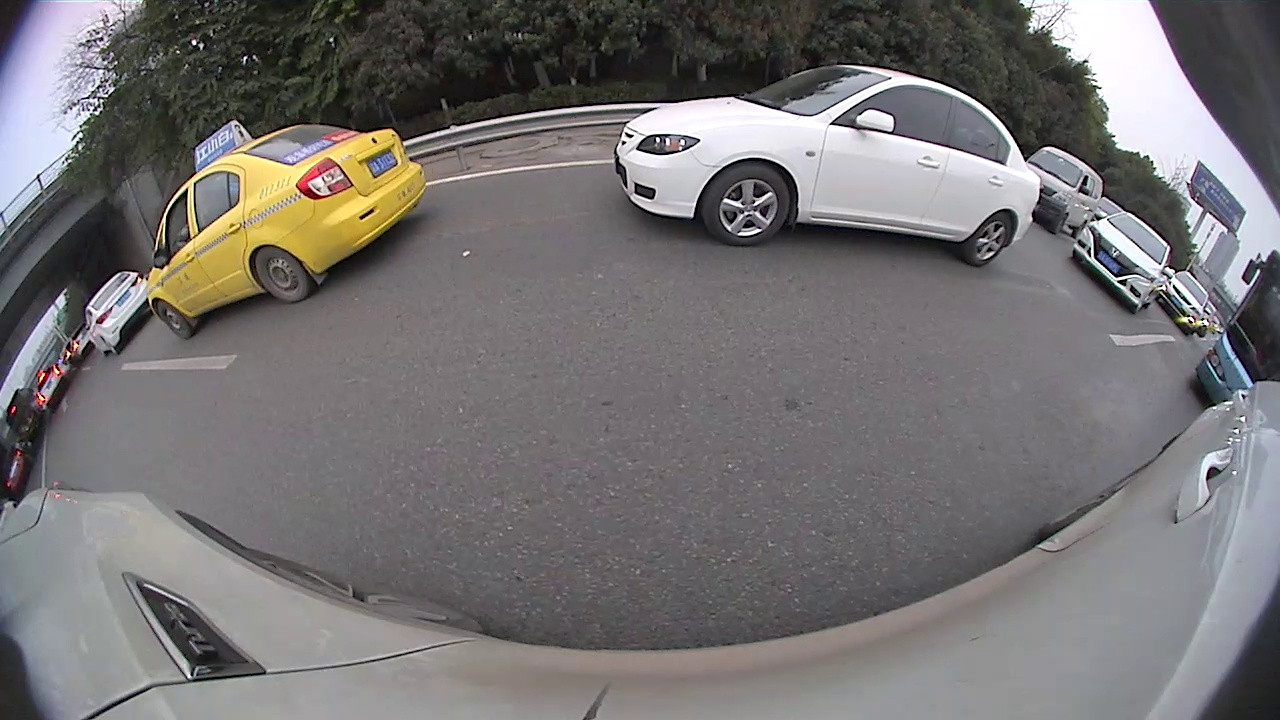bus: (1192, 243, 1279, 414)
car: (611, 65, 1042, 271), (139, 114, 428, 340), (1069, 211, 1169, 313), (1022, 145, 1106, 239), (1156, 269, 1212, 338)
front: (696, 162, 793, 247), (156, 299, 193, 340)
rear: (252, 243, 312, 306), (962, 208, 1016, 270)
